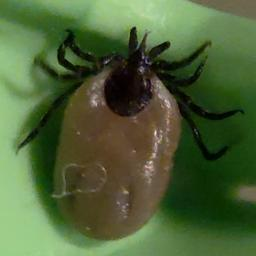Ixodes scapularis: (16, 26, 246, 240)
